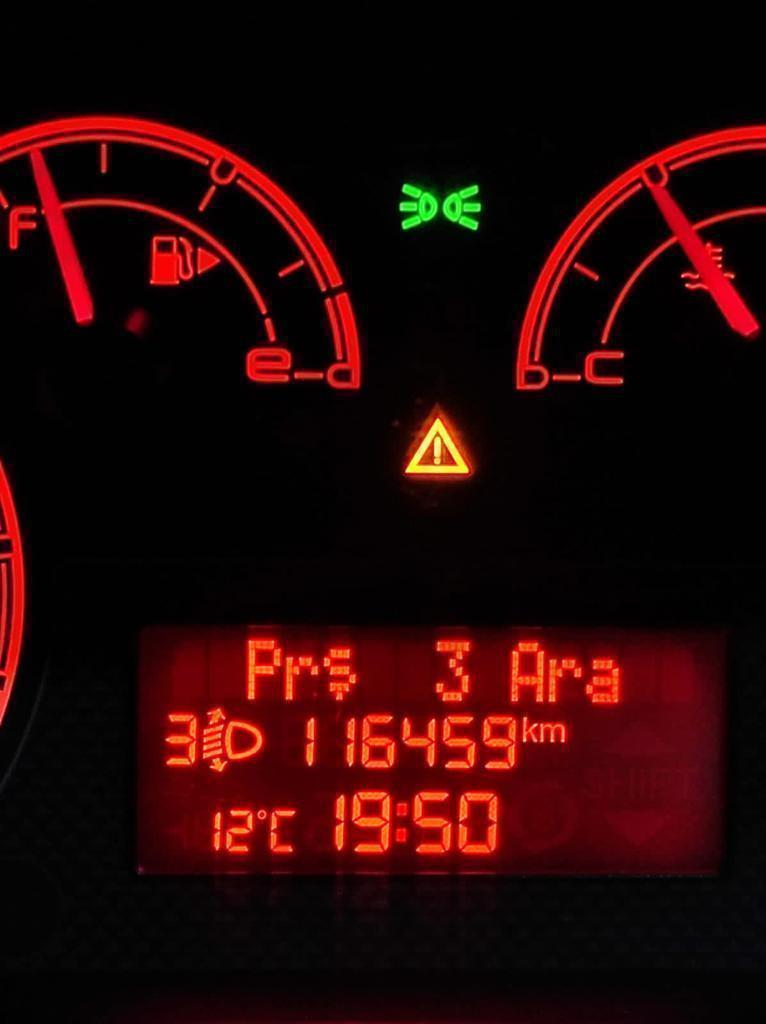0: (456, 788, 500, 856)
1: (328, 790, 347, 853), (299, 714, 319, 767), (339, 715, 358, 768), (206, 807, 223, 852)
2: (225, 806, 253, 855)
3: (429, 635, 475, 705), (160, 710, 199, 769)
4: (399, 713, 438, 768)
5: (411, 787, 454, 857), (437, 712, 478, 771)
6: (359, 711, 398, 770)
9: (348, 789, 391, 856), (479, 712, 518, 772)
X: (504, 636, 547, 705), (240, 635, 283, 702), (583, 652, 627, 707), (320, 642, 359, 703), (282, 651, 320, 703), (548, 653, 584, 704), (267, 805, 299, 855), (392, 799, 410, 845), (539, 719, 568, 745), (520, 714, 537, 744), (254, 807, 267, 820)
odometer: (117, 613, 738, 887)
